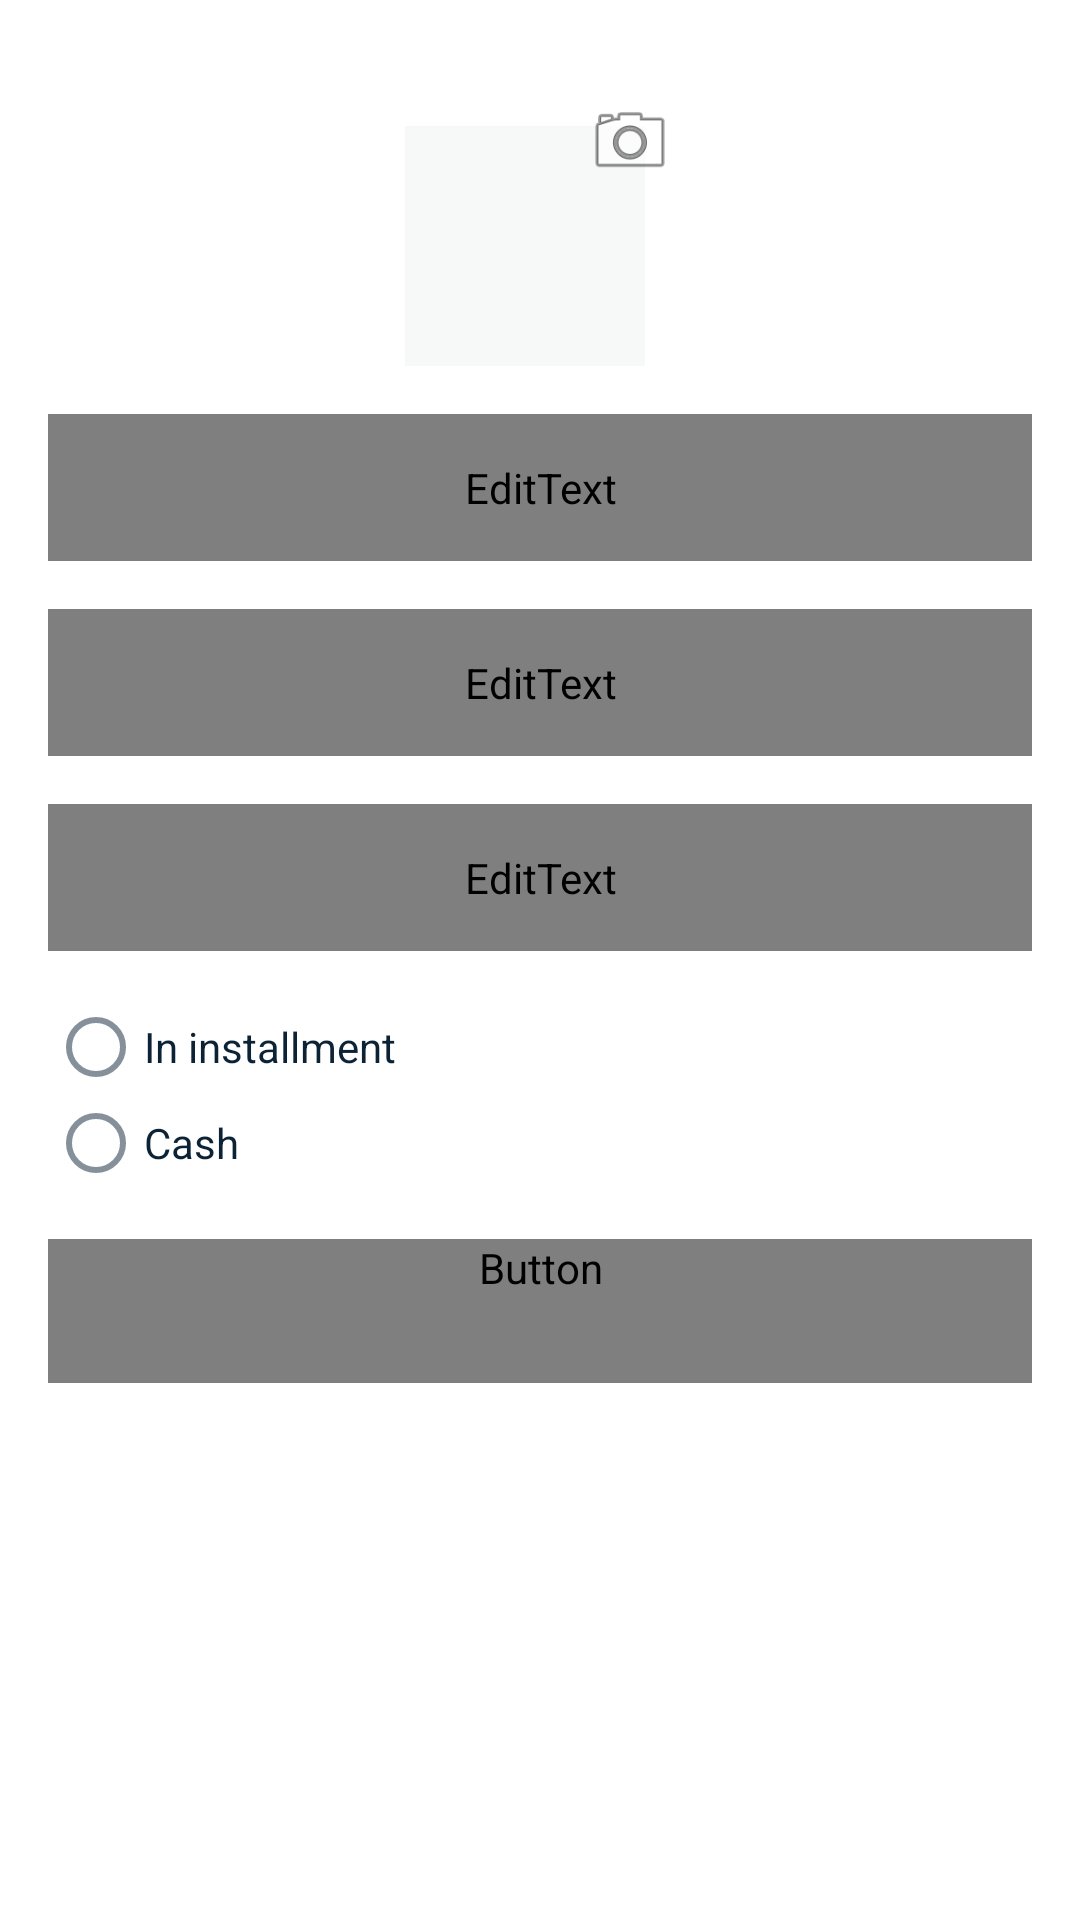

Named icons in this screenshot (1080w x 1920h) and their bounding boxes, (x1, y1, x2, y2):
camera: (595, 112, 665, 167)
